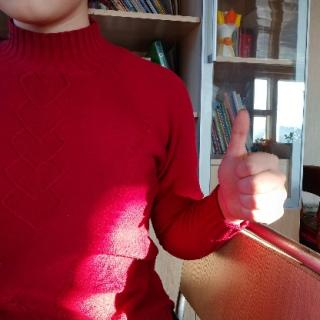ALIF: (215, 107, 290, 230)
